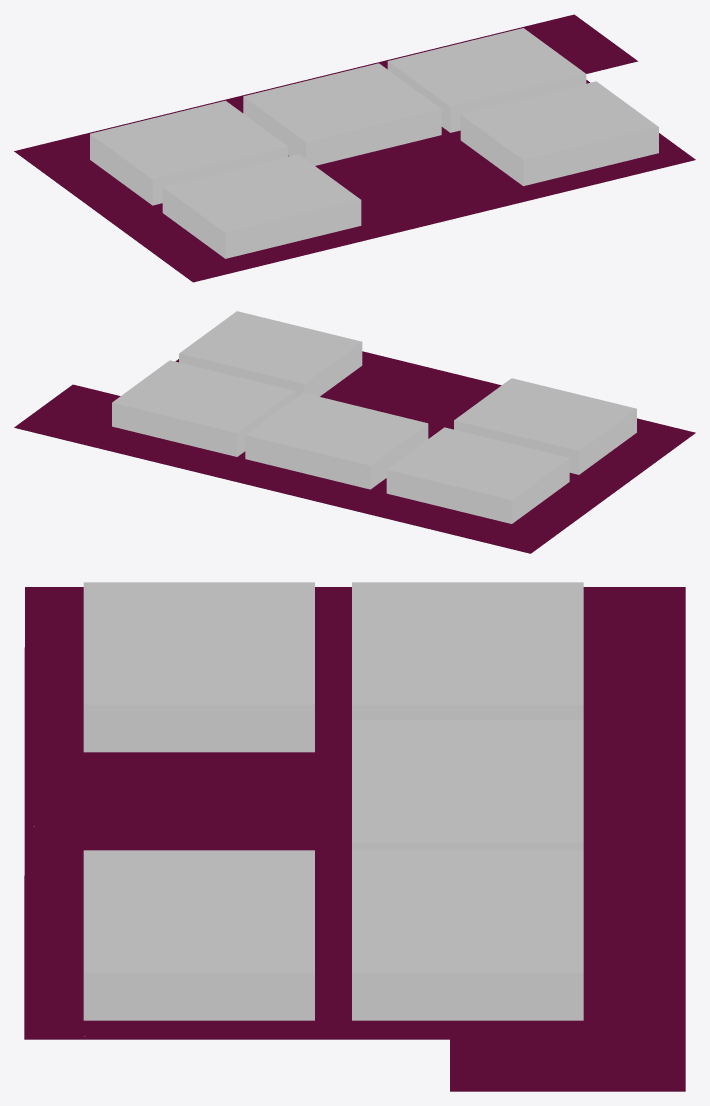
File: njc-b3-ish-v6-8-5.glb
3 renders of one model, top to bottom at view 1: azimuth 30°, elevation 25°; view 2: azimuth 150°, elevation 25°; view 3: azimuth 270°, elevation 25°, orthographic. The views are drawn at different scales.
Parts seen in each view (by area): view 1: Base, ISH5, ISH1, ISH3, ISH4, ISH2; view 2: Base, ISH4, ISH3, ISH2, ISH5, ISH1; view 3: Base, ISH2, ISH1, ISH5, ISH4, ISH3.
Part boxes in pixels (<box>): Base: <box>14,14,695,282</box>; ISH5: <box>162,154,361,258</box>; ISH1: <box>460,81,658,186</box>; ISH3: <box>243,63,441,165</box>; ISH4: <box>90,100,288,205</box>; ISH2: <box>387,28,586,132</box>; Base: <box>14,351,695,553</box>; ISH4: <box>386,427,569,523</box>; ISH3: <box>245,393,428,489</box>; ISH2: <box>112,360,294,456</box>; ISH5: <box>454,378,636,474</box>; ISH1: <box>179,311,362,398</box>; Base: <box>24,587,685,1091</box>; ISH2: <box>352,850,583,1020</box>; ISH1: <box>83,850,314,1020</box>; ISH5: <box>83,582,314,752</box>; ISH4: <box>352,582,583,720</box>; ISH3: <box>352,720,583,850</box>.
Bounding box in the file's own units: 4.48 × 0.2 × 2.48.
